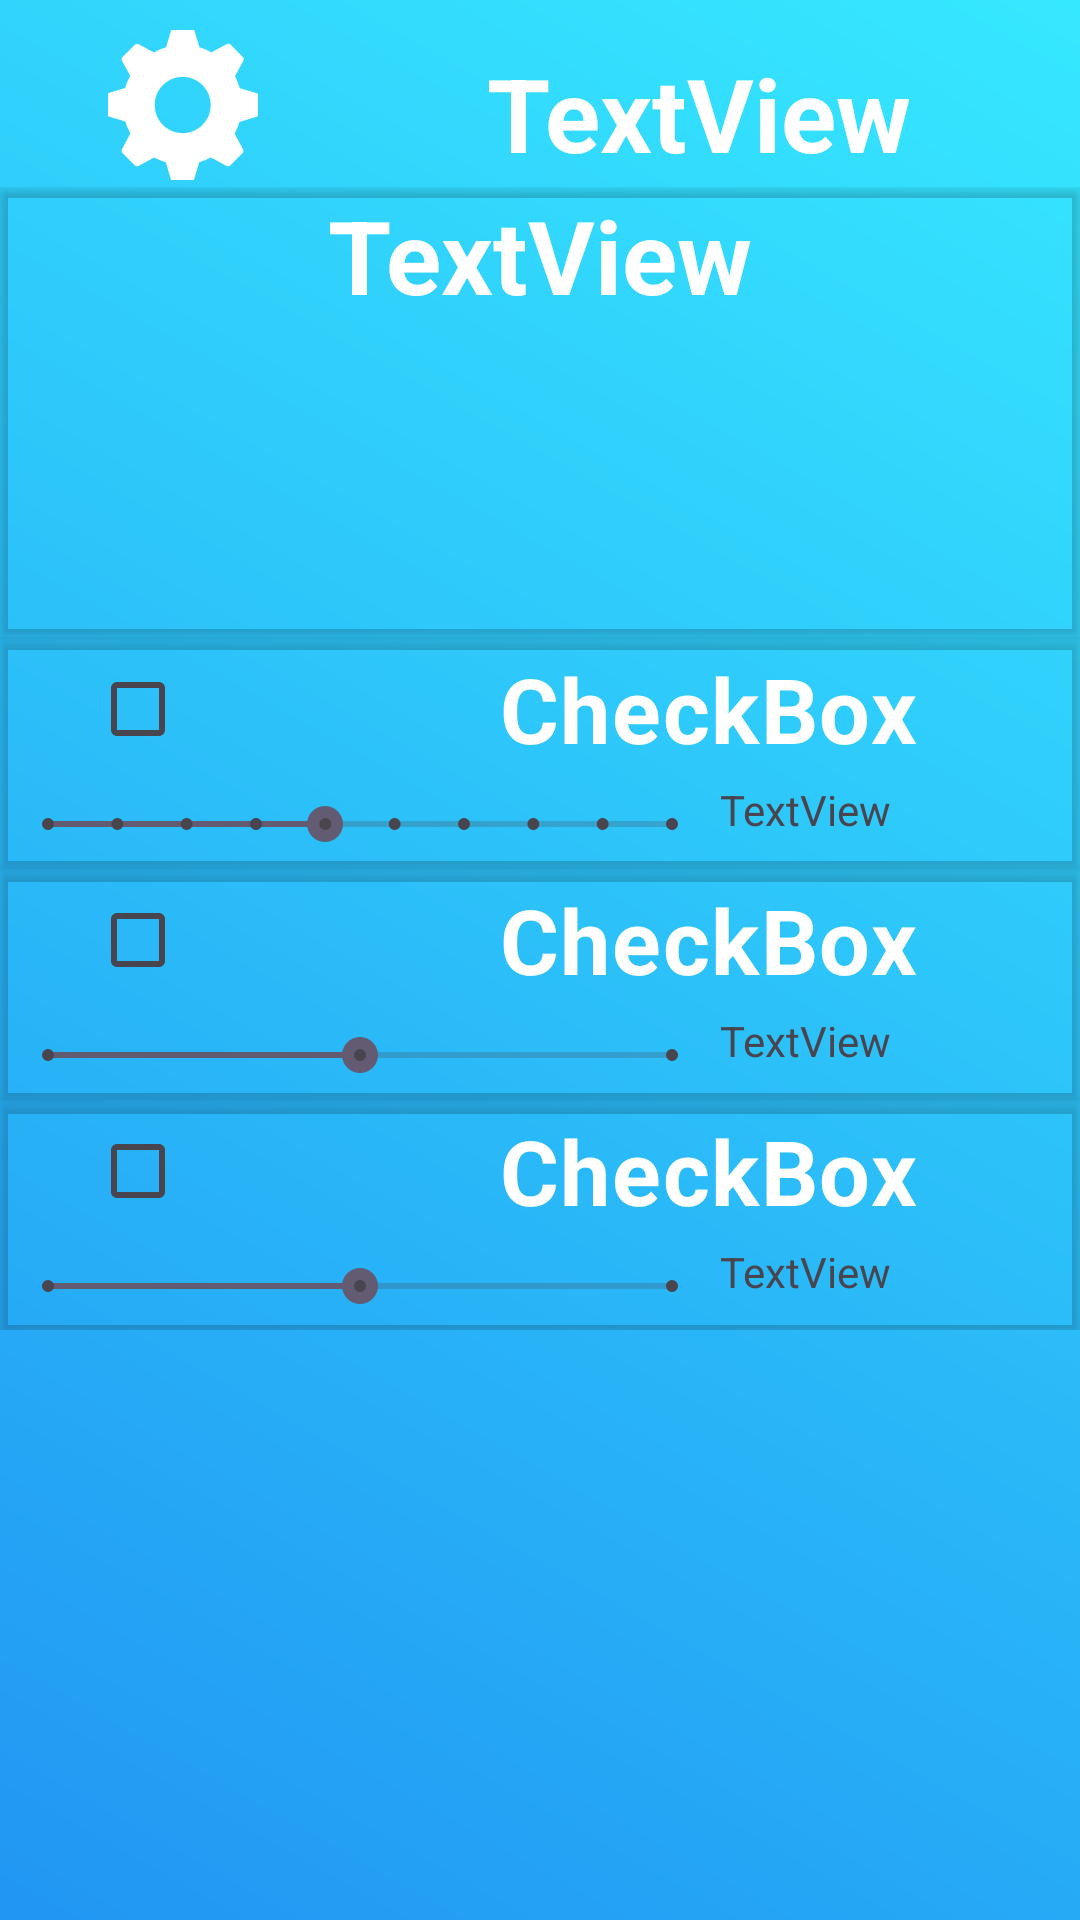

Icons on this 1080px x 1920px Android screen, each with its box as (x1, y1, x2, y2):
Settings: (108, 30, 258, 180)
